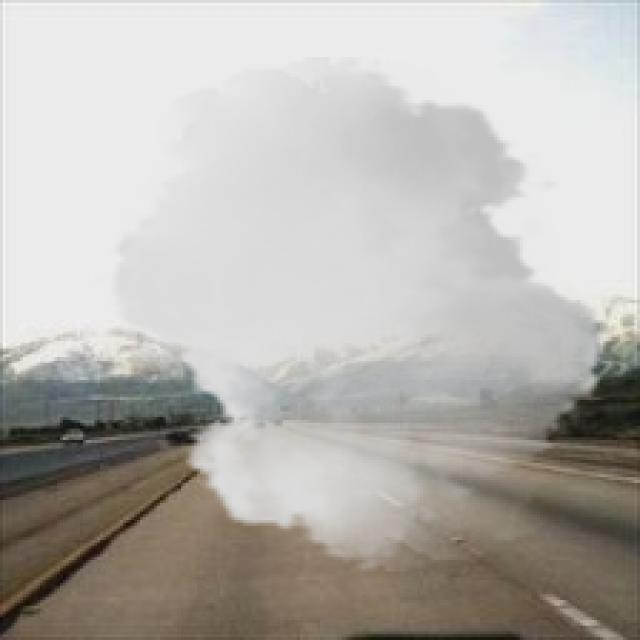smoke: (91, 57, 623, 572)
